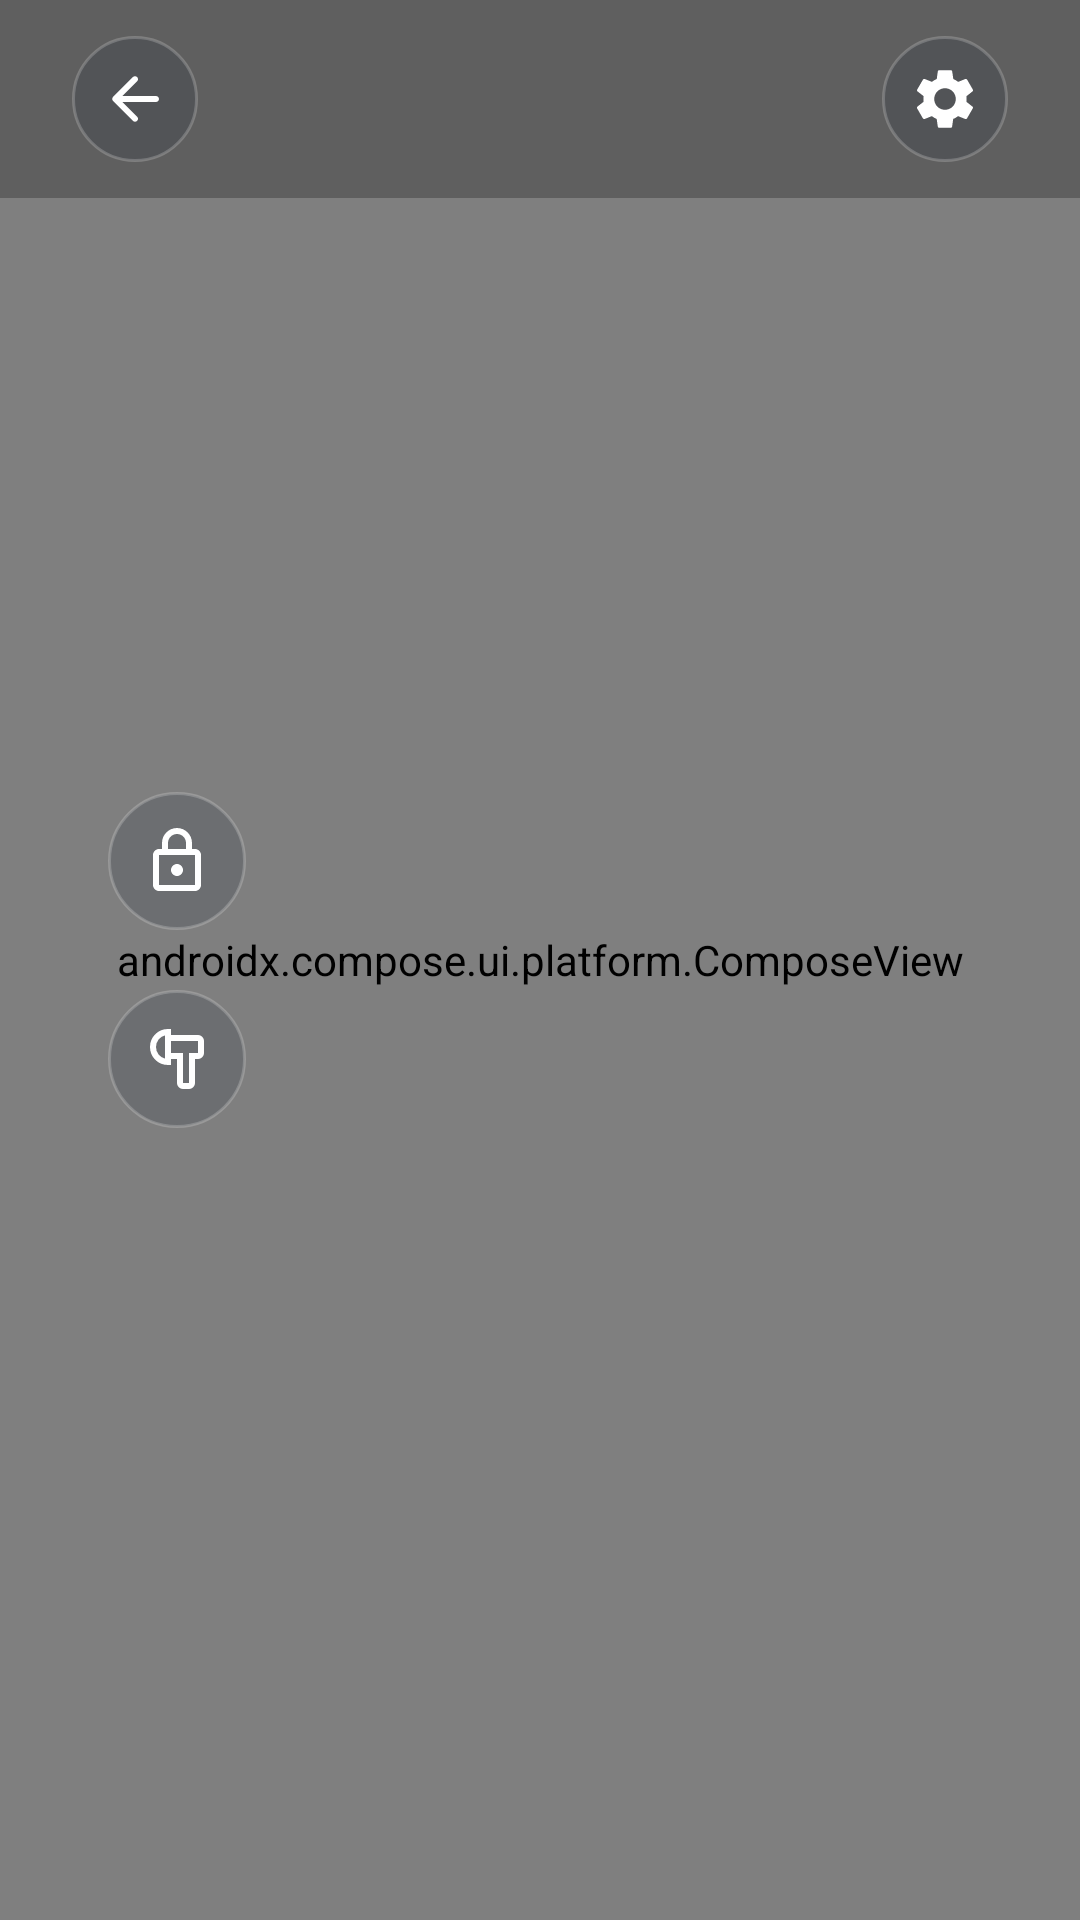

Locate icon controls on the screen. Image size 1080x1920, boxes as (x1=x1, y1=y1, x2=x2, y2=y2).
arrow left: (x1=72, y1=36, x2=198, y2=162)
earbud: (x1=108, y1=990, x2=246, y2=1128)
settings gear: (x1=882, y1=36, x2=1008, y2=162)
